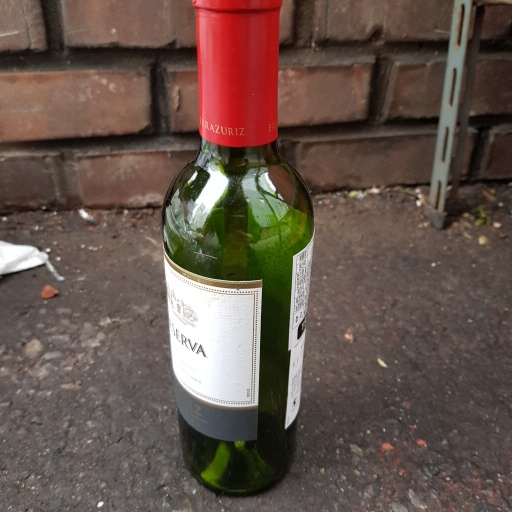Glass_2: (163, 1, 317, 499)
